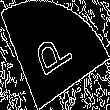P_SW: (31, 26, 79, 84)
